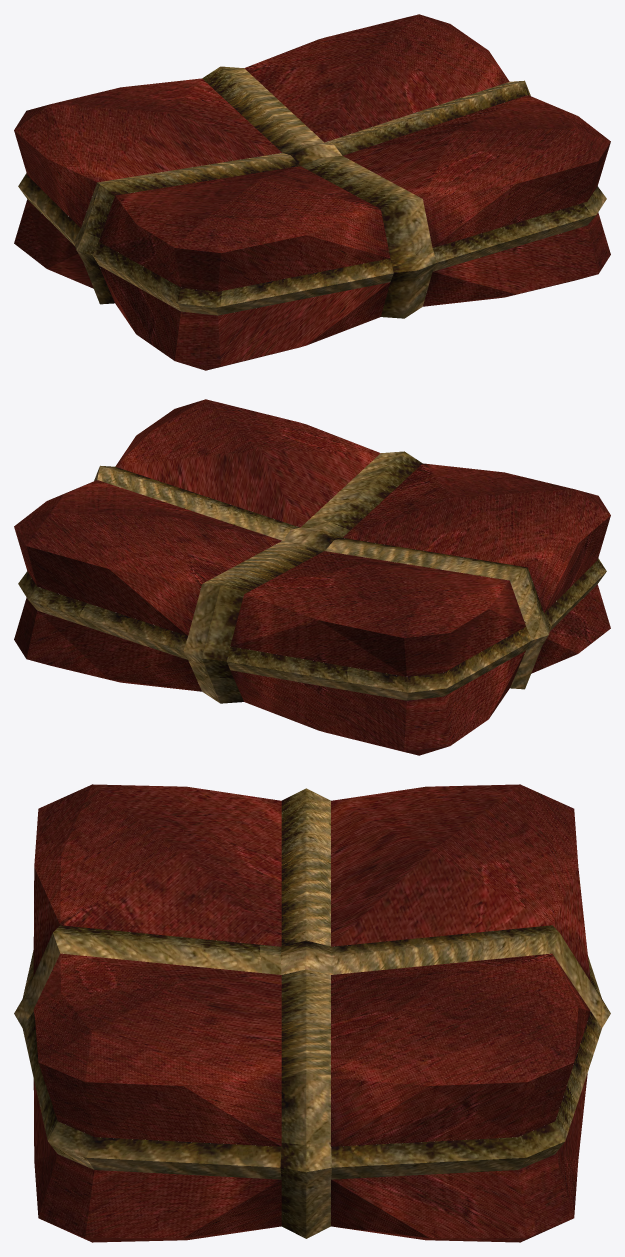
The model's file is KM_ITMI_PACKET_05.glb.
The picture shows the model from 3 angles, top to bottom: view 1: azimuth 30°, elevation 25°; view 2: azimuth 150°, elevation 25°; view 3: azimuth 270°, elevation 25°; orthographic projection. The views are drawn at different scales.
Visible parts, largest first — view 1: KM_ITMI_PACKET_05; view 2: KM_ITMI_PACKET_05; view 3: KM_ITMI_PACKET_05.
Boxes of the visible parts, x1,y1,x2,y2 form: KM_ITMI_PACKET_05: [14, 14, 610, 370]; KM_ITMI_PACKET_05: [14, 399, 610, 755]; KM_ITMI_PACKET_05: [14, 784, 610, 1242].
Size of the model in its own units: 0.4578 by 0.1414 by 0.364.
2 materials, 2 textured.
